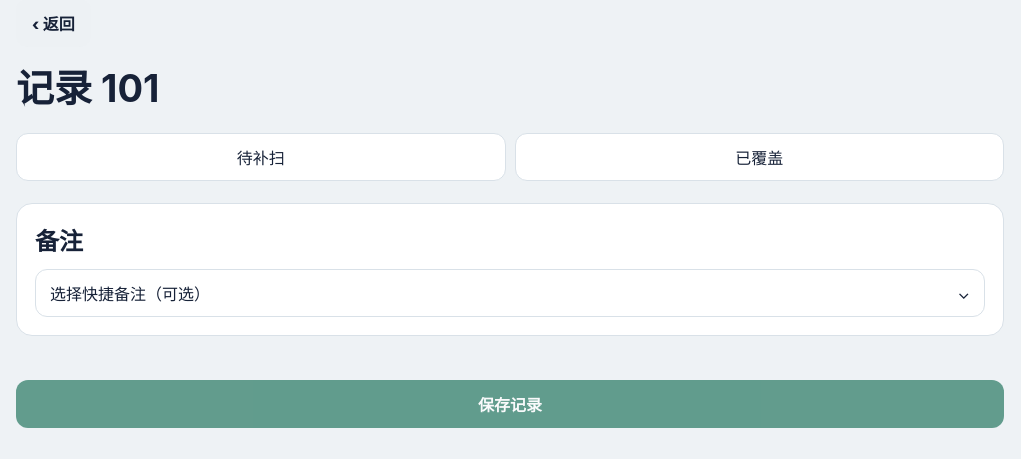
Test case: RecordEditor › shows saved feedback for 800ms before returning
Click the button "待补扫": (261, 157) [16, 133, 506, 181]
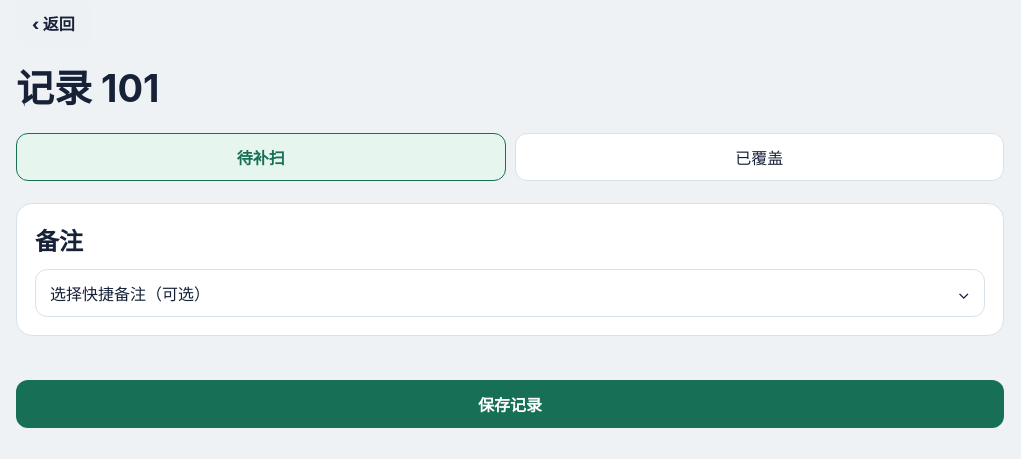
Click the button "保存记录": (510, 404) [16, 380, 1004, 428]
Wait 800 ms
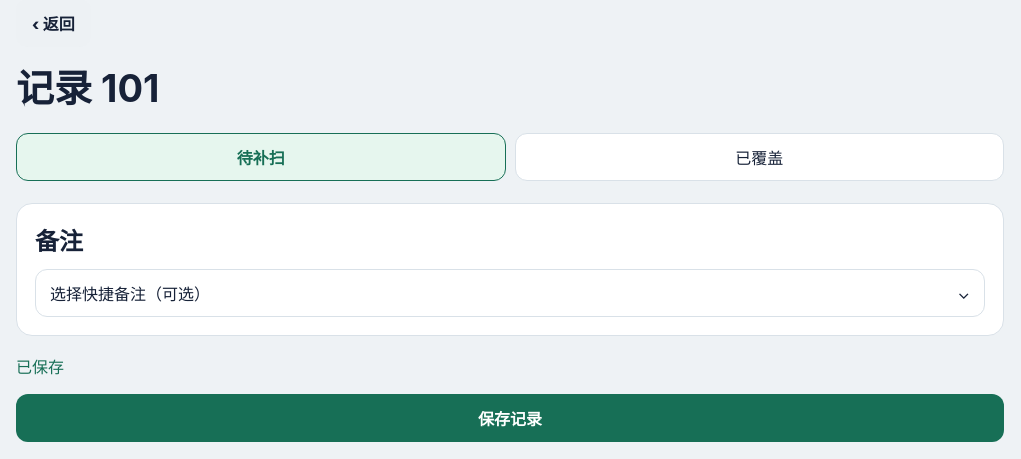
Check: the text "已保存" is shown, box [16, 357, 64, 377]
